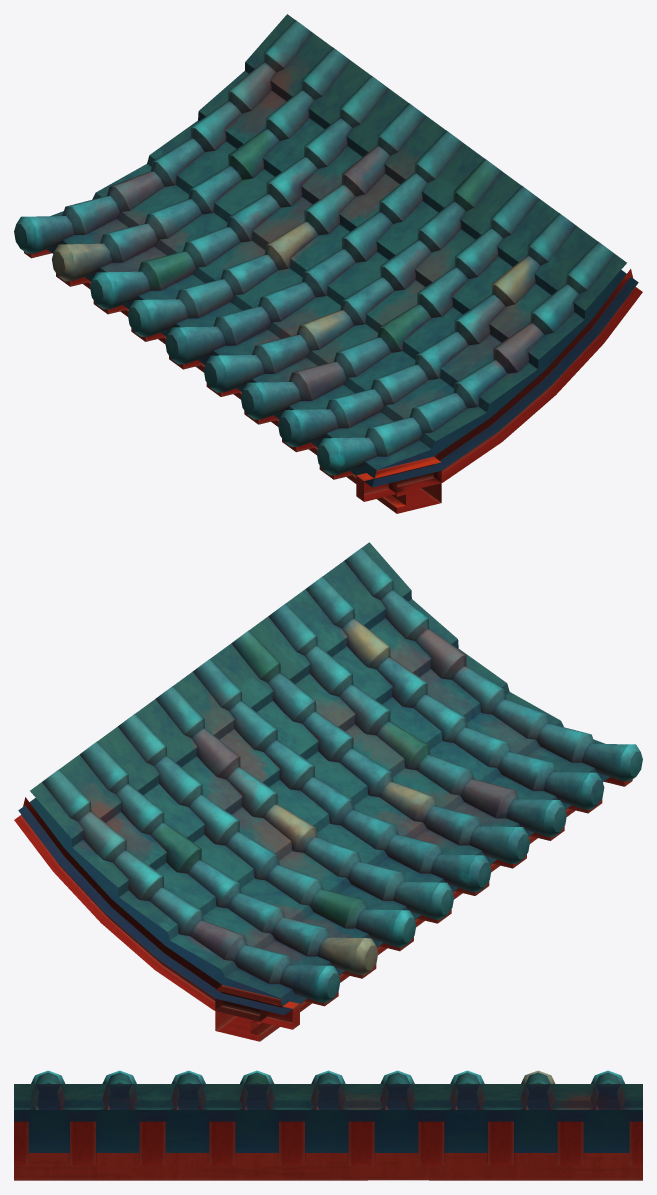
The model's file is SM_SmallRoof.glb.
The picture shows the model from 3 angles, top to bottom: view 1: azimuth 30°, elevation 25°; view 2: azimuth 150°, elevation 25°; view 3: azimuth 270°, elevation 25°; orthographic projection. The views are drawn at different scales.
Visible parts, largest first — view 1: SM_SmallRoof_LOD0; view 2: SM_SmallRoof_LOD0; view 3: SM_SmallRoof_LOD0.
Boxes of the visible parts, x1,y1,x2,y2 form: SM_SmallRoof_LOD0: (14, 14, 642, 513); SM_SmallRoof_LOD0: (14, 542, 642, 1041); SM_SmallRoof_LOD0: (14, 1070, 642, 1180).
Size of the model in its own units: 1.02 by 0.6602 by 2.
Materials: 1 (1 with a texture image).
